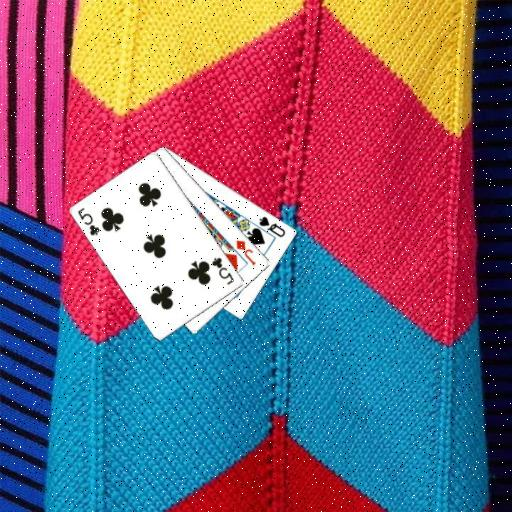5C: (209, 254, 236, 286), (75, 205, 102, 237)
JD: (234, 237, 258, 267)
QS: (256, 213, 288, 239)
